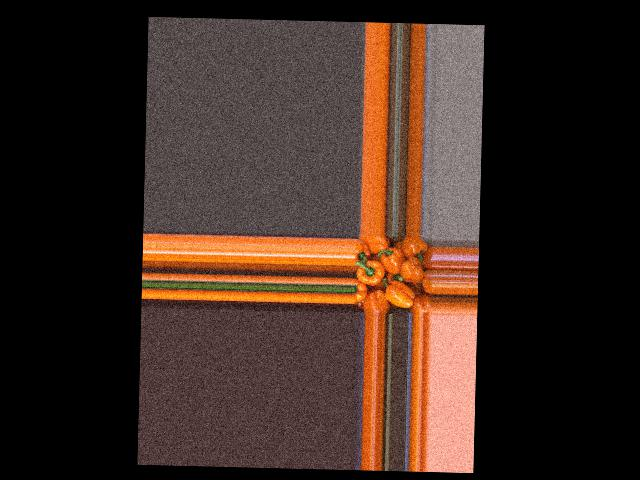bell_pepper: (416, 244, 433, 274)
